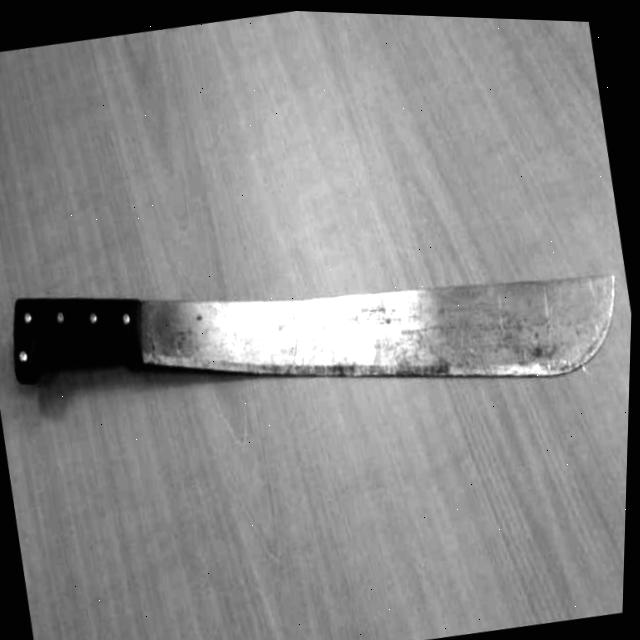long knife: (0, 178, 636, 525)
